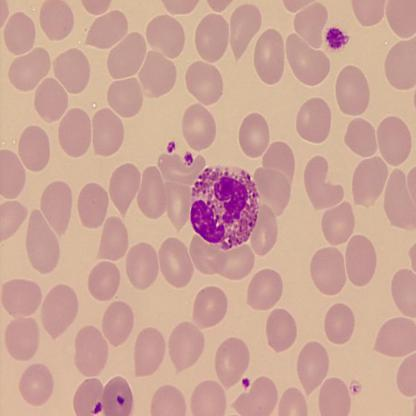Eosinophil: (190, 164, 260, 249)
